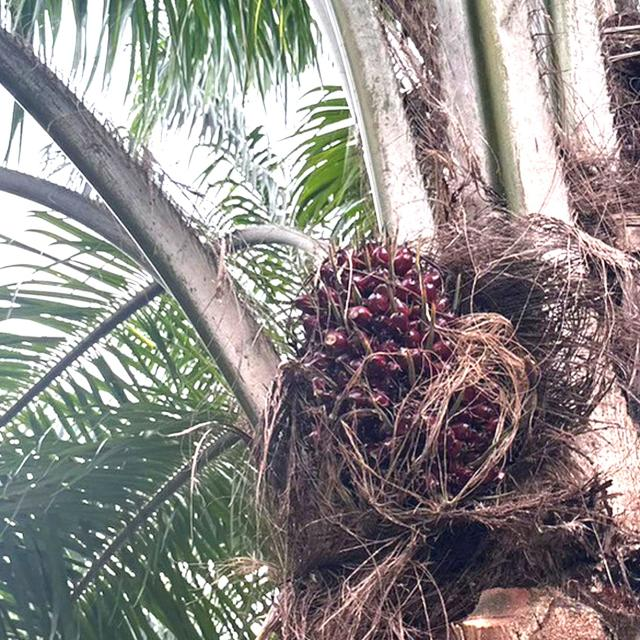ripe: (251, 202, 530, 495)
